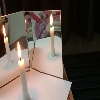fire: (17, 40, 22, 62)
